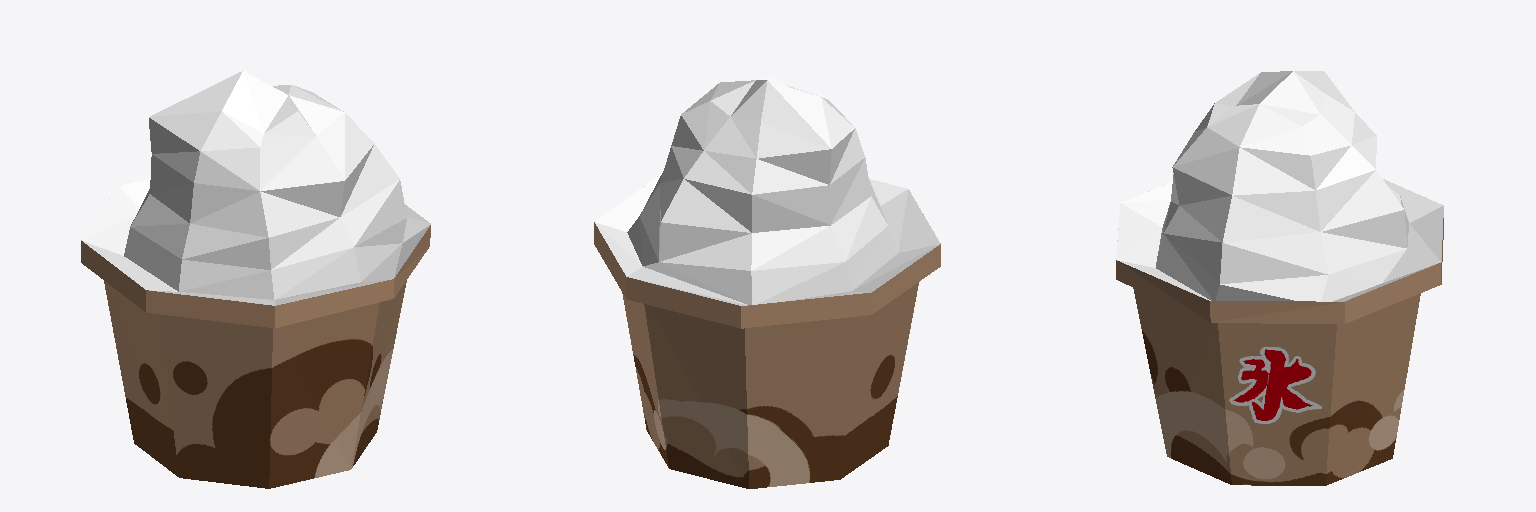
The picture shows the model from 3 angles: view 1: azimuth 30°, elevation 25°; view 2: azimuth 150°, elevation 25°; view 3: azimuth 270°, elevation 25°; orthographic projection.
Parts seen in each view (by area): view 1: ice; view 2: ice; view 3: ice.
Boxes of the visible parts, box(x1,y1,x2,y2) form: ice: box(81, 71, 430, 488); ice: box(594, 75, 940, 488); ice: box(1116, 71, 1443, 485).
Size of the model in its own units: 0.5263 by 0.6476 by 0.5291.
1 materials, 1 textured.